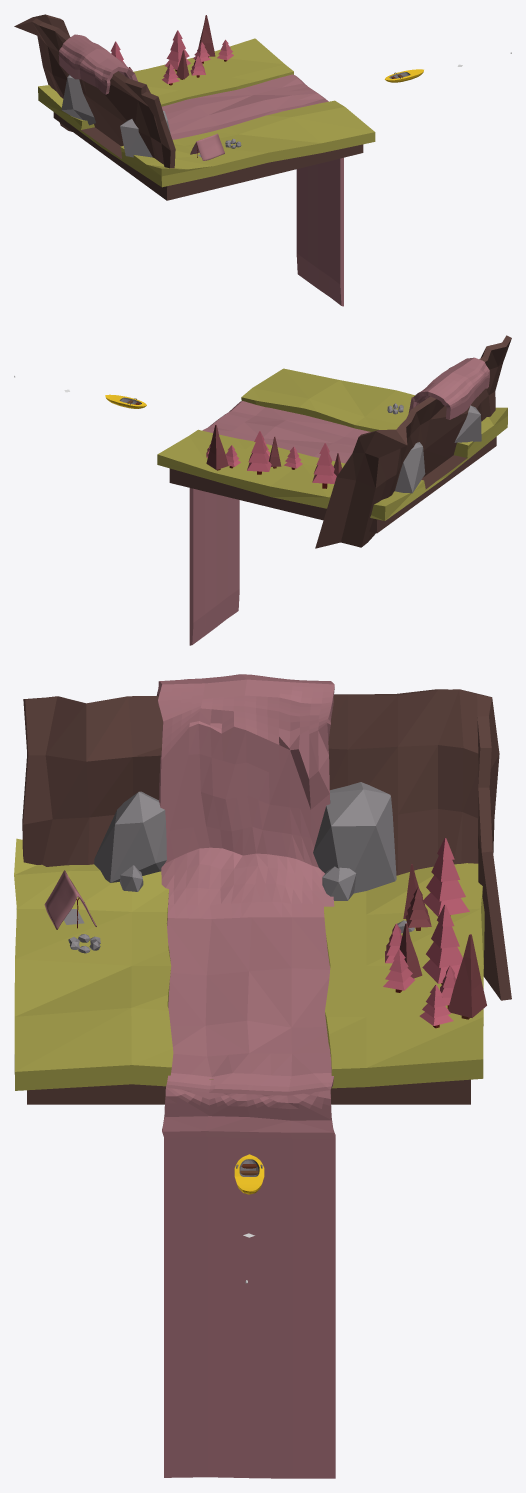
Rendered from waterfallV4.6.glb.
3 renders of one model, top to bottom at view 1: azimuth 30°, elevation 25°; view 2: azimuth 150°, elevation 25°; view 3: azimuth 270°, elevation 25°, orthographic. The views are drawn at different scales.
Visible parts, largest first — view 1: Flor, River, Cliff, Roc 2.001, Roc 2, Plan, Arbre 2.008, Arbre 1.002; view 2: Flor, River, Cliff, Roc 2.001, Roc 2, Arbre 2.007, Arbre 2.008, Arbre 1.002, Boat; view 3: River, Flor, Cliff, Roc 2.001, Roc 2, Arbre 2.007, Arbre 1.002, Arbre 2.008, Plan, Roc.
Boxes of the visible parts, x1=… form: Flor: x1=38, y1=38, x2=375, y2=200; River: x1=58, y1=34, x2=343, y2=306; Cliff: x1=14, y1=14, x2=175, y2=168; Roc 2.001: x1=61, y1=75, x2=95, y2=125; Roc 2: x1=120, y1=111, x2=170, y2=157; Plan: x1=190, y1=133, x2=224, y2=160; Arbre 2.008: x1=165, y1=30, x2=190, y2=71; Arbre 1.002: x1=198, y1=15, x2=215, y2=57; Flor: x1=157, y1=368, x2=507, y2=533; River: x1=189, y1=357, x2=489, y2=645; Cliff: x1=315, y1=335, x2=511, y2=548; Roc 2.001: x1=395, y1=442, x2=425, y2=493; Roc 2: x1=454, y1=405, x2=481, y2=442; Arbre 2.007: x1=312, y1=443, x2=336, y2=488; Arbre 2.008: x1=247, y1=431, x2=271, y2=474; Arbre 1.002: x1=206, y1=425, x2=228, y2=470; Boat: x1=105, y1=394, x2=146, y2=408; River: x1=156, y1=674, x2=335, y2=1478; Flor: x1=14, y1=838, x2=484, y2=1104; Cliff: x1=22, y1=689, x2=511, y2=1000; Roc 2.001: x1=313, y1=782, x2=396, y2=893; Roc 2: x1=94, y1=791, x2=166, y2=882; Arbre 2.007: x1=423, y1=838, x2=469, y2=916; Arbre 1.002: x1=448, y1=934, x2=486, y2=1019; Arbre 2.008: x1=422, y1=904, x2=462, y2=984; Plan: x1=44, y1=870, x2=96, y2=929; Roc: x1=322, y1=866, x2=356, y2=900.
Bounding box in the file's own units: 17.28 × 11.3 × 8.75.
